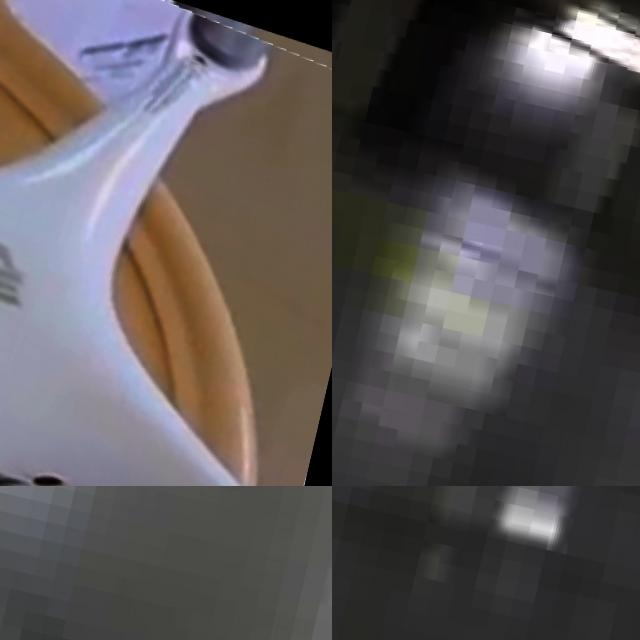drone: (0, 0, 332, 486)
